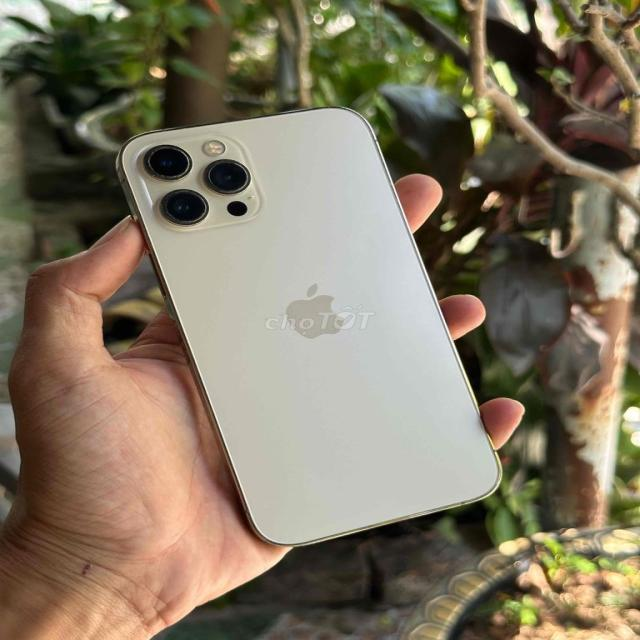gen_12_13: (102, 101, 510, 550)
